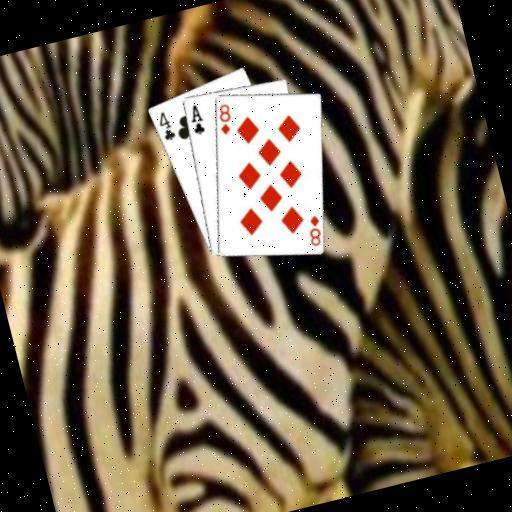4C: (153, 107, 179, 144)
8D: (212, 100, 238, 138), (301, 212, 327, 249)
AC: (184, 100, 207, 137)
